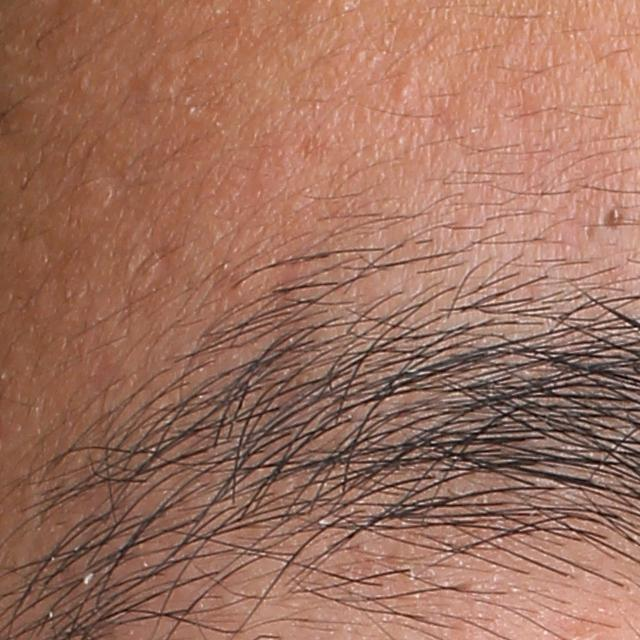comedo: (135, 72, 164, 97), (392, 82, 415, 101)
